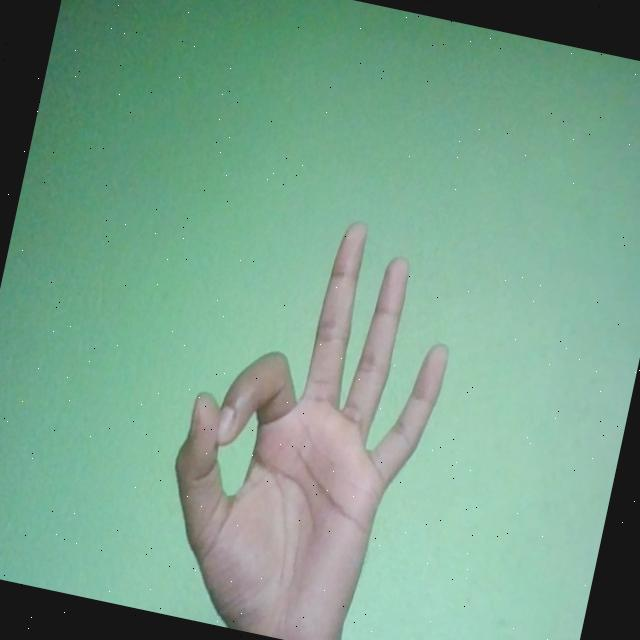Rock On: (140, 192, 472, 640)
